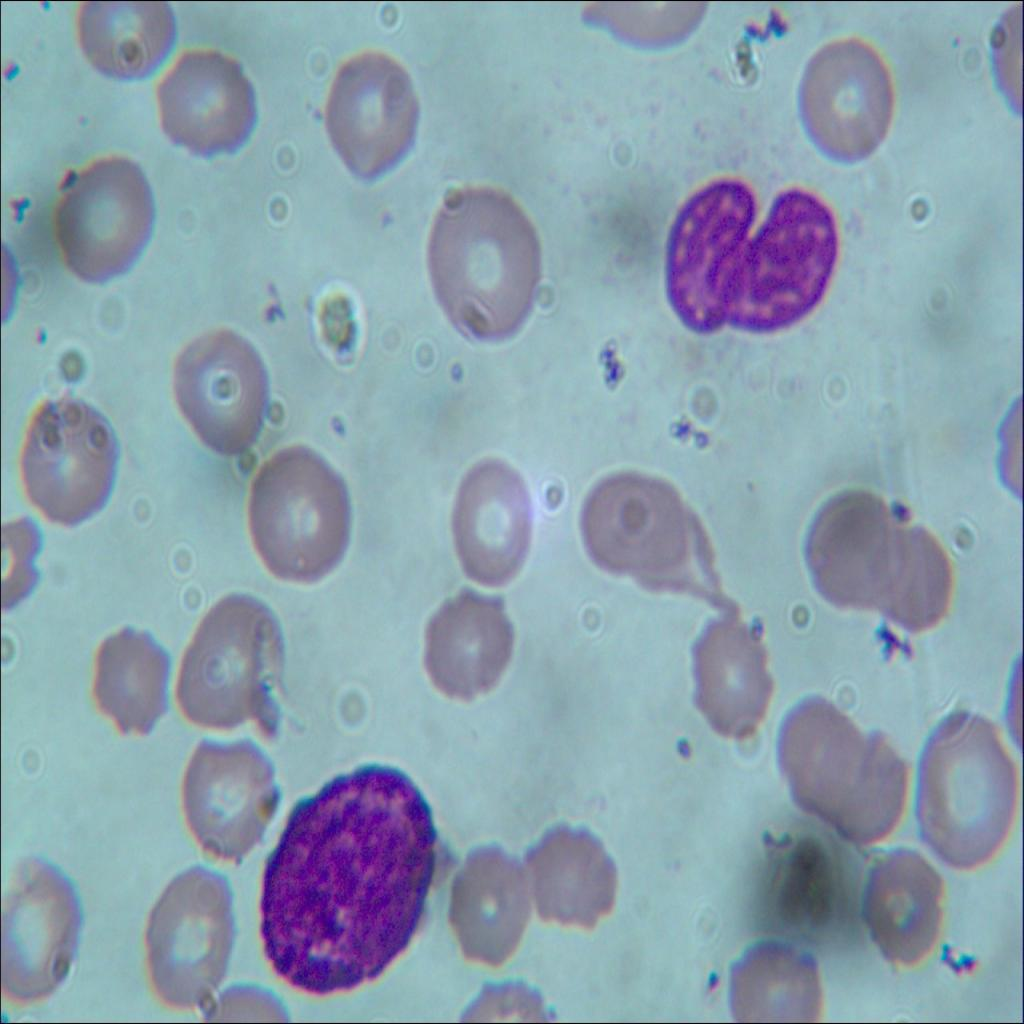Eritrosit: (429, 186, 544, 346), (918, 708, 1018, 868), (248, 444, 358, 584), (173, 595, 283, 731), (166, 325, 270, 458), (798, 34, 898, 172), (138, 867, 240, 1001), (19, 394, 124, 522), (178, 735, 286, 859), (150, 40, 262, 158), (326, 48, 422, 185), (0, 851, 81, 1011), (439, 835, 535, 968), (444, 455, 539, 589), (56, 152, 156, 275), (418, 586, 521, 705), (518, 815, 622, 928), (691, 618, 779, 744), (826, 734, 914, 859), (855, 842, 942, 968), (804, 494, 902, 600), (634, 514, 730, 621), (583, 472, 686, 570), (874, 517, 958, 637), (86, 622, 172, 737), (778, 696, 858, 801), (726, 935, 818, 1023), (71, 0, 173, 74)
Limfoblast: (258, 757, 436, 992)
Monosit: (663, 168, 838, 344)
Platelet: (20, 317, 58, 367), (668, 722, 701, 776), (691, 965, 729, 1002), (891, 482, 916, 535)
